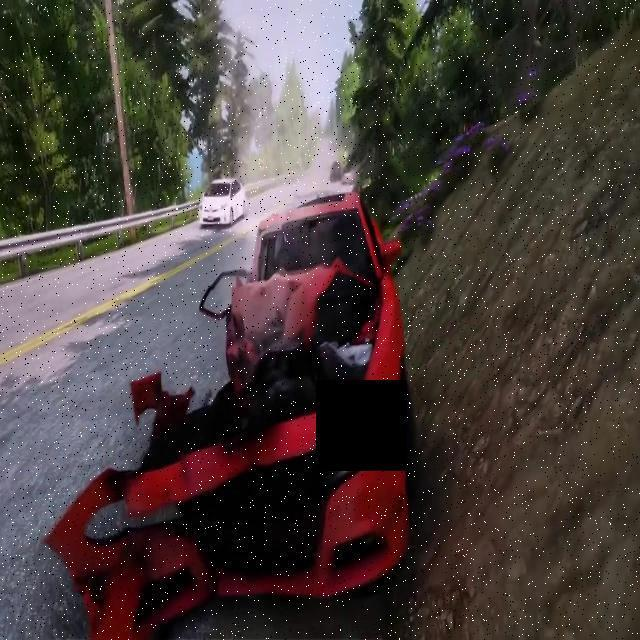normal: (182, 128, 250, 242)
single accident: (80, 160, 442, 640)
